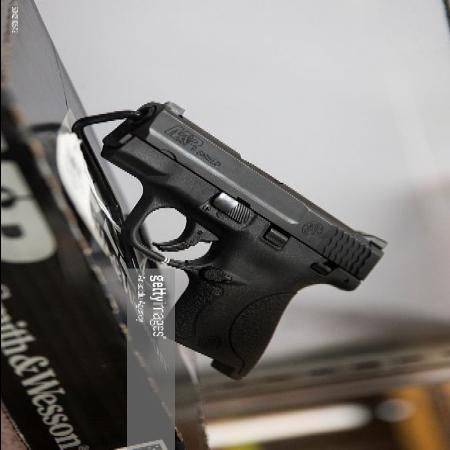Pistol: (102, 98, 398, 379)
